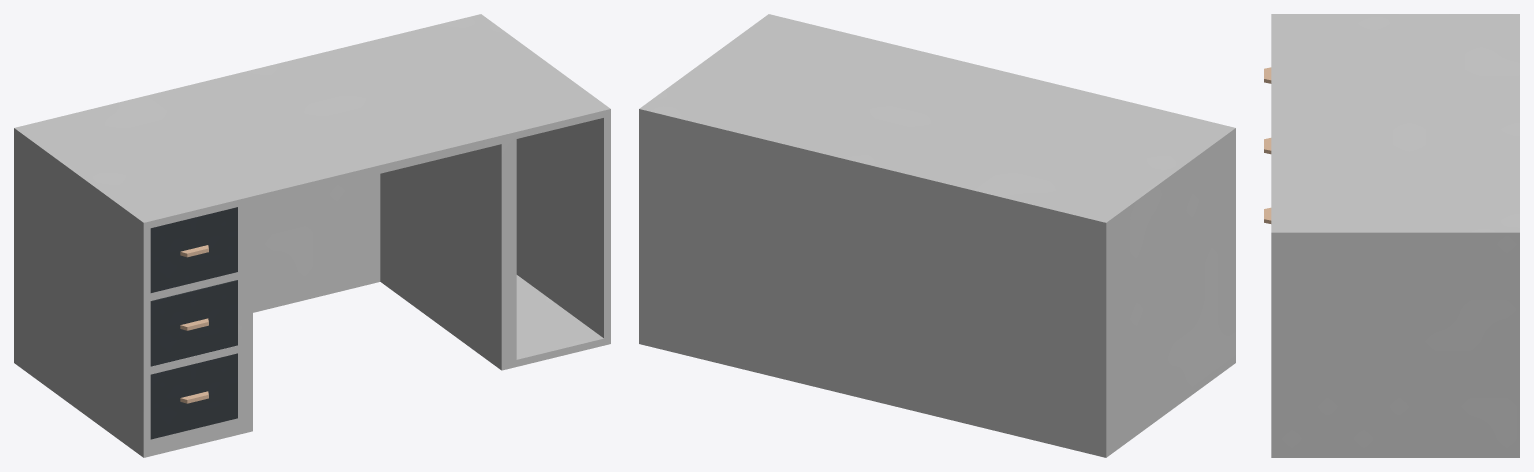
The model's file is Desk_02_04.fbx.
3 views of the same model, side by side, from view 1: azimuth 30°, elevation 25°; view 2: azimuth 150°, elevation 25°; view 3: azimuth 270°, elevation 25° (orthographic). The views are drawn at different scales.
Visible parts, largest first — view 1: Desk_02_04, Desk_02_04_Drawer.001, Desk_02_04_Drawer.002, Desk_02_04_Drawer; view 2: Desk_02_04; view 3: Desk_02_04.
Part boxes in pixels (x1,y1,x2,y2): Desk_02_04: [14, 14, 610, 457]; Desk_02_04_Drawer.001: [150, 280, 237, 366]; Desk_02_04_Drawer.002: [150, 353, 237, 439]; Desk_02_04_Drawer: [150, 207, 237, 292]; Desk_02_04: [639, 14, 1235, 457]; Desk_02_04: [1271, 14, 1519, 457].
Bounding box in the file's own units: 1.69 × 0.8109 × 0.8343.
